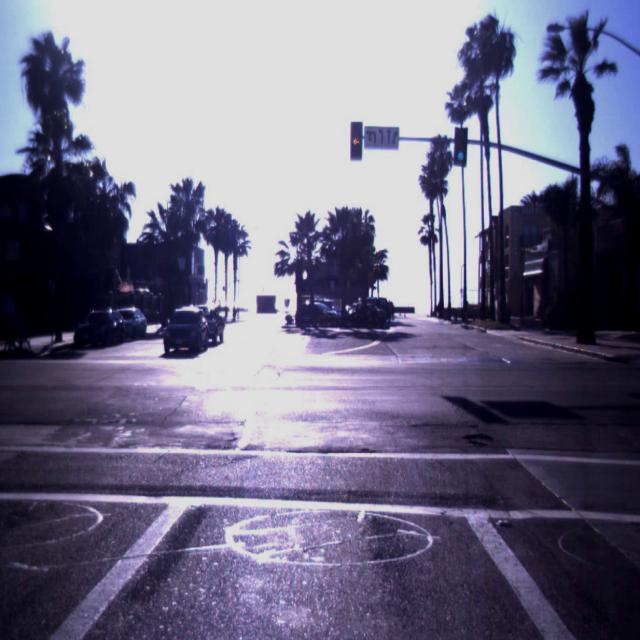sari: (350, 121, 362, 161)
yesil: (455, 127, 467, 166)
